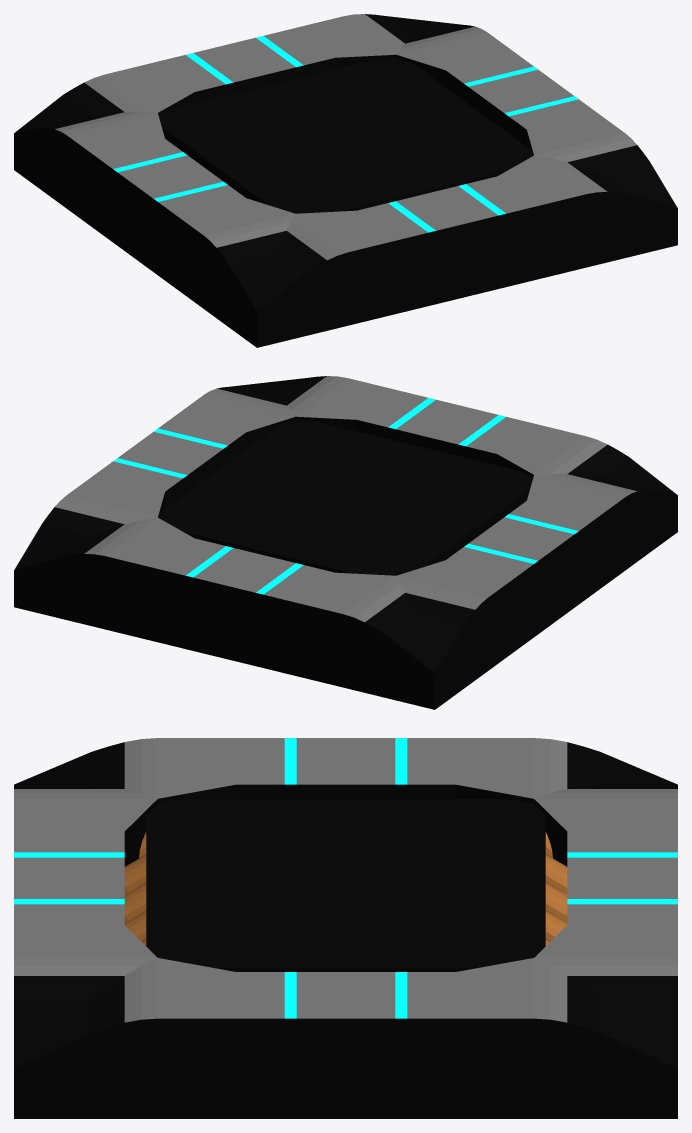
File: crossingNode.fbx
The picture shows the model from 3 angles, top to bottom: view 1: azimuth 30°, elevation 25°; view 2: azimuth 150°, elevation 25°; view 3: azimuth 270°, elevation 25°; orthographic projection. The views are drawn at different scales.
Parts seen in each view (by area): view 1: Plane, Cube.002; view 2: Plane, Cube.002; view 3: Plane, Cube.002.
Boxes of the visible parts, x1,y1,x2,y2 form: Plane: (14, 14, 677, 347); Cube.002: (159, 58, 532, 213); Plane: (14, 376, 677, 709); Cube.002: (159, 420, 532, 575); Plane: (14, 738, 677, 1118); Cube.002: (124, 799, 567, 971).
Size of the model in its own units: 600 by 100 by 600.
